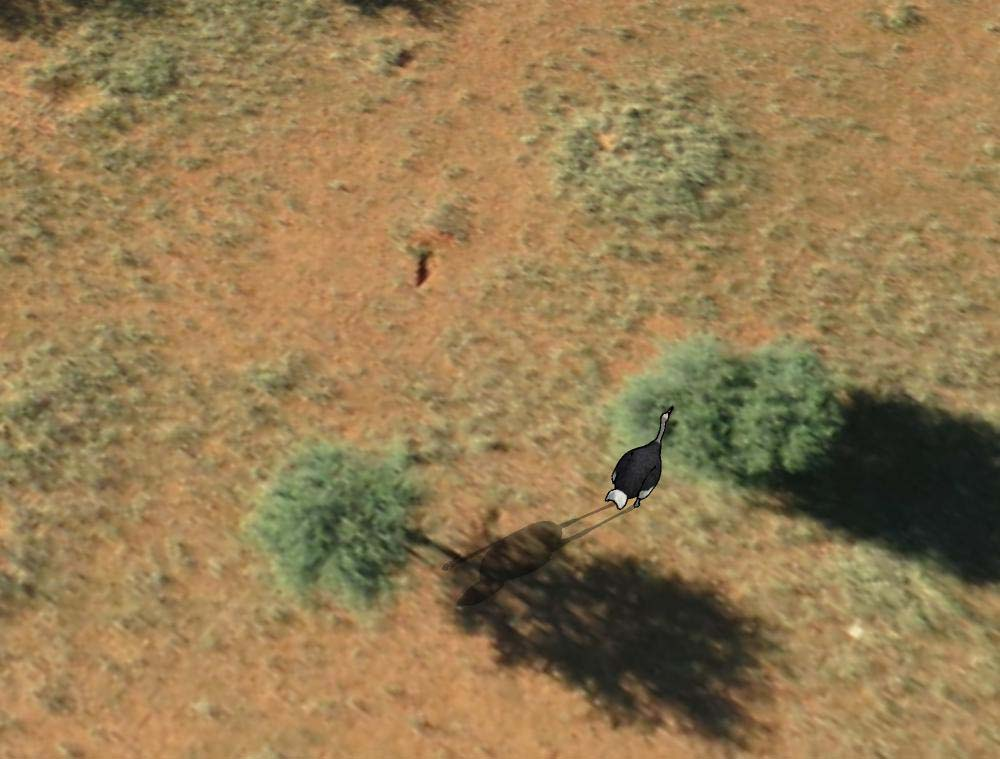ostrich: (602, 410, 679, 513)
